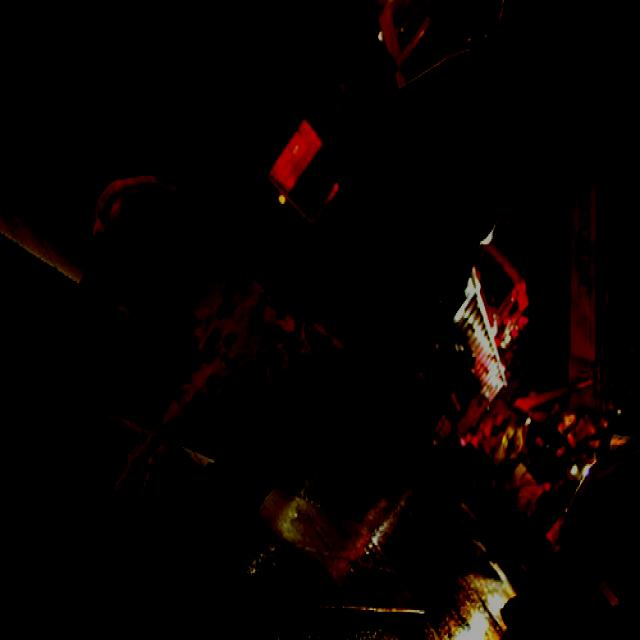Dog: (50, 126, 364, 582)
